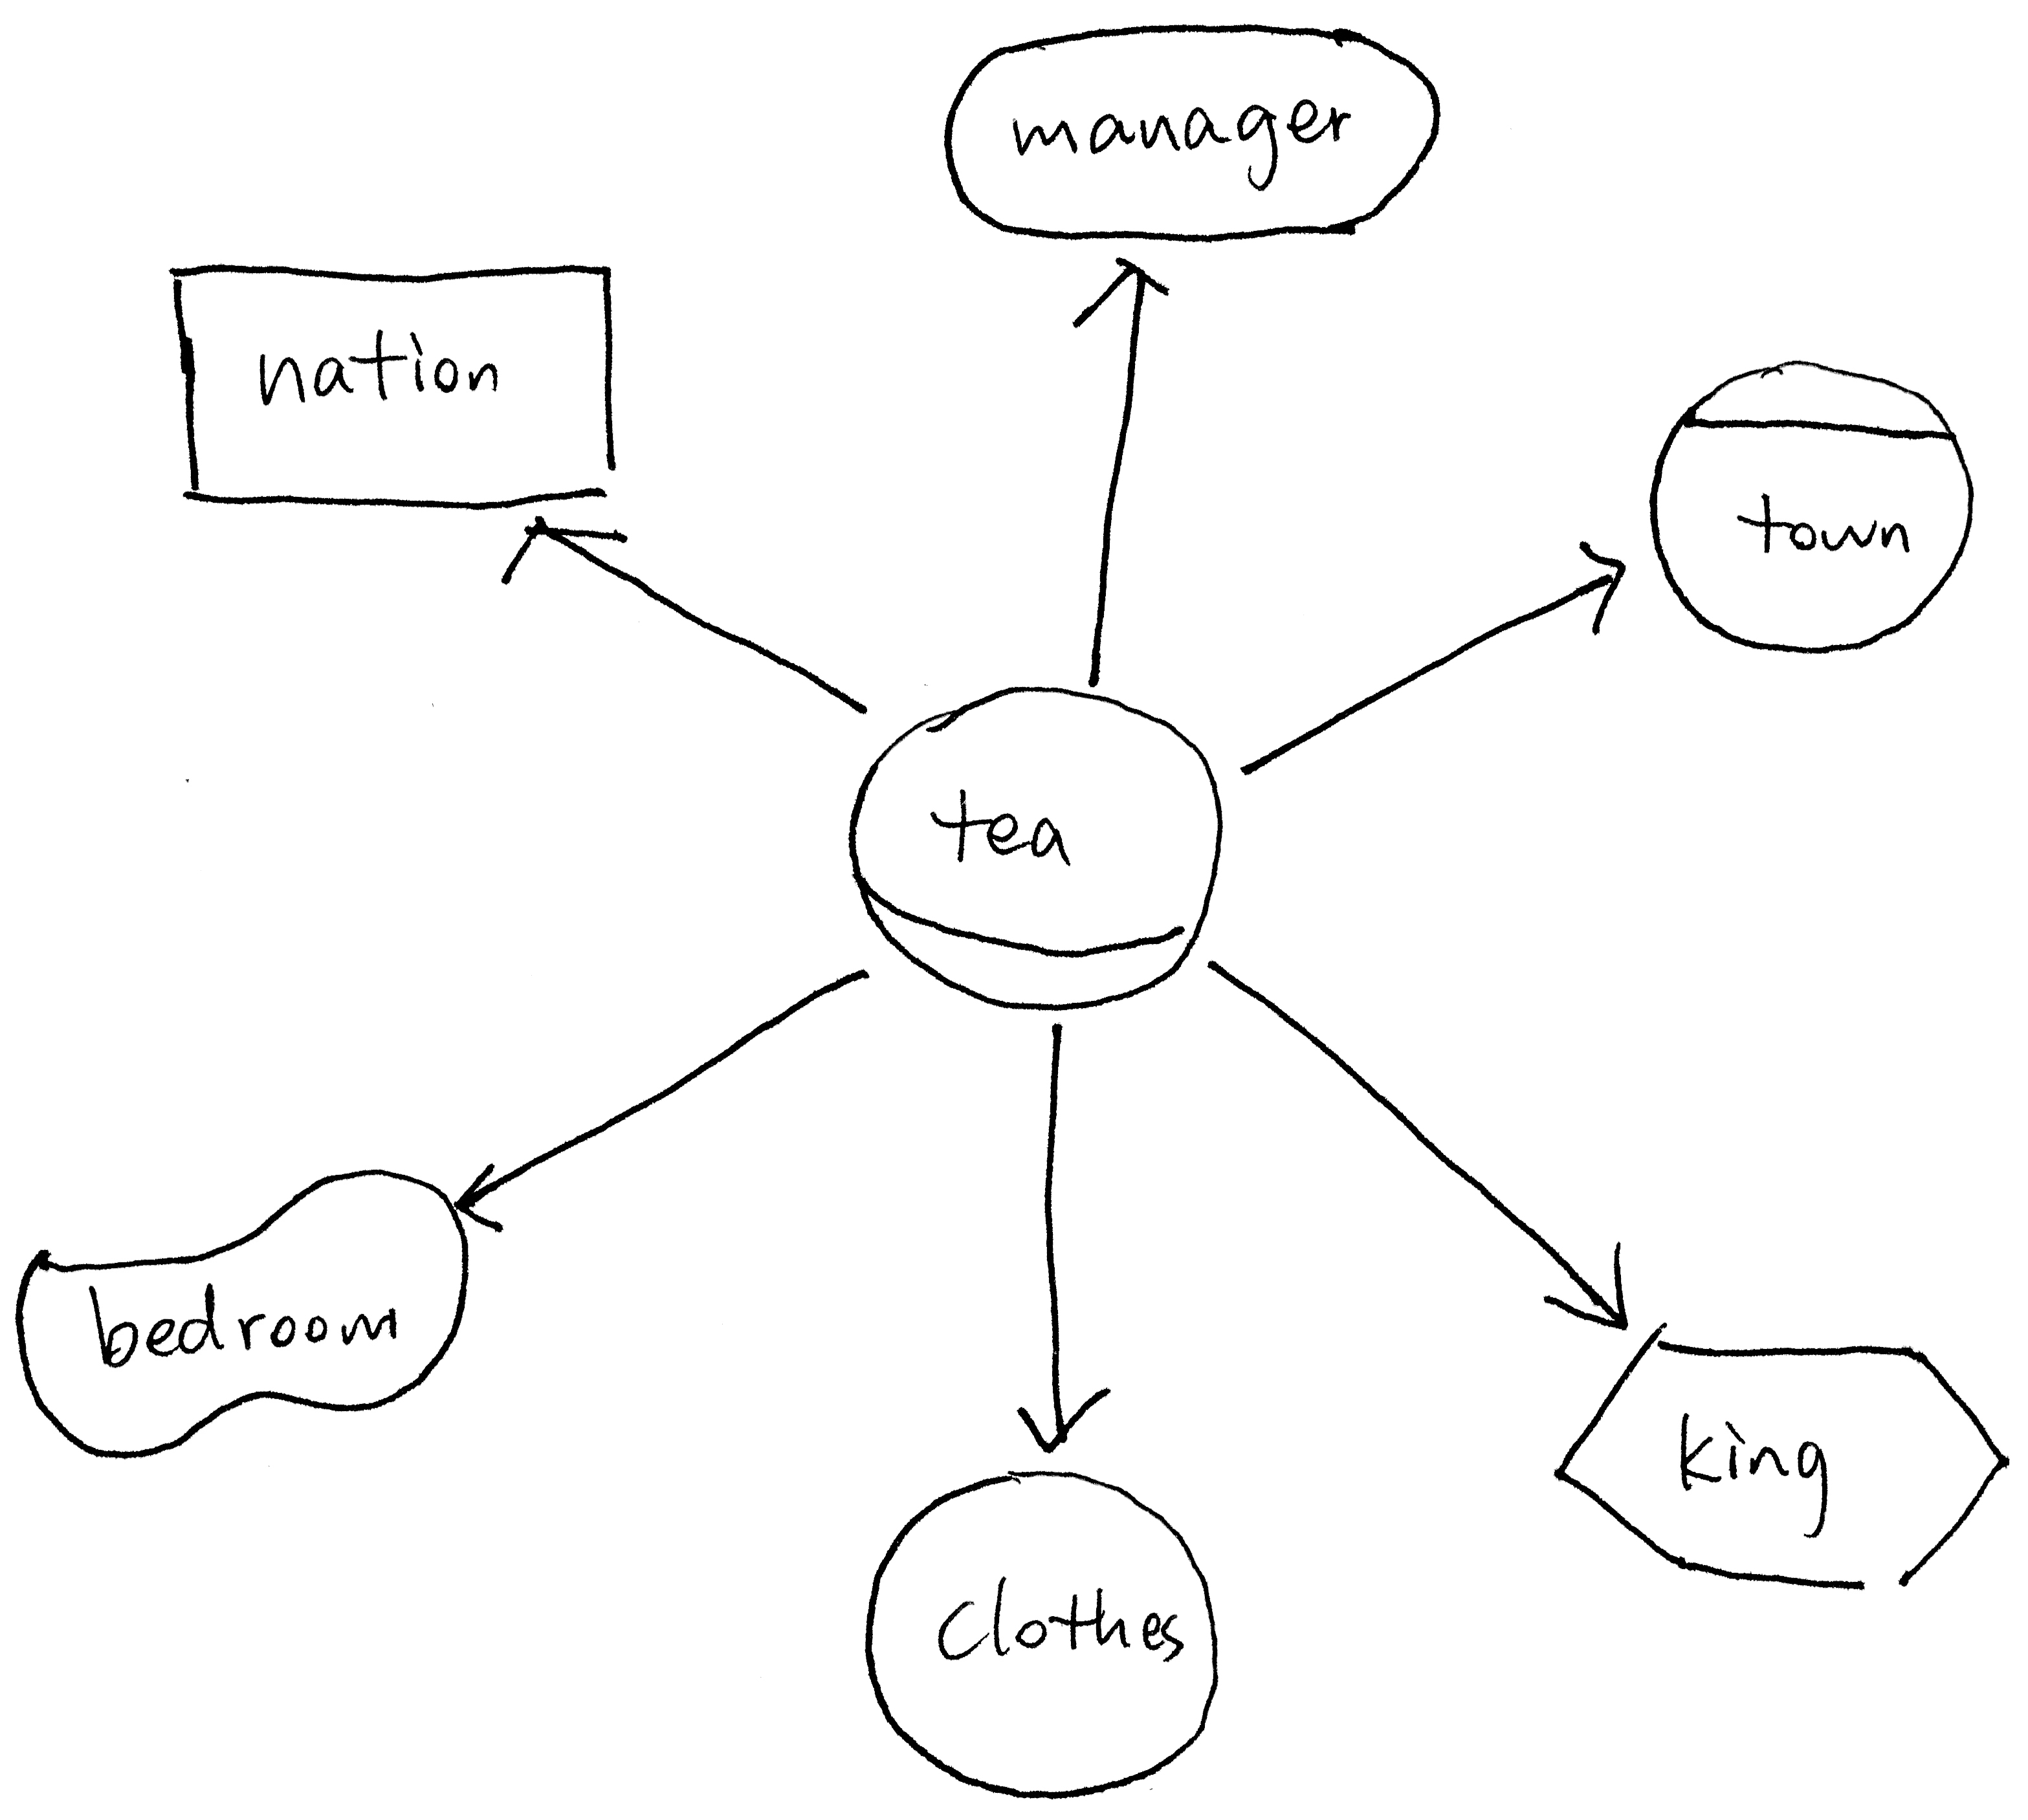actor: (845, 1446, 1242, 1813)
agent: (1627, 339, 1996, 675)
arrow: (480, 502, 659, 603), (1525, 1226, 1657, 1354), (1060, 235, 1186, 355), (995, 1365, 1128, 1465), (1555, 513, 1647, 657), (438, 1142, 520, 1254)
goal: (933, 7, 1462, 260)
quality: (7, 1154, 487, 1472)
resource: (137, 241, 652, 532)
role: (808, 664, 1235, 1035)
task: (1531, 1318, 2024, 1621)
